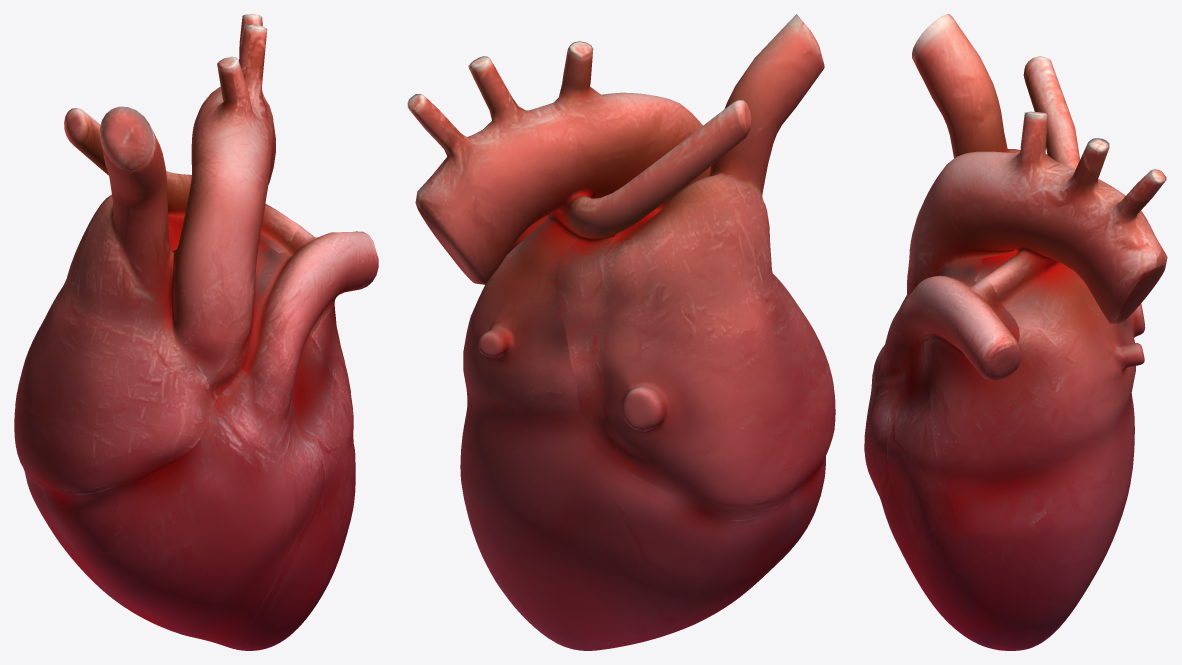
The model's file is HeartMesh.fbx.
The picture shows the model from 3 angles, left to right: view 1: azimuth 30°, elevation 25°; view 2: azimuth 150°, elevation 25°; view 3: azimuth 270°, elevation 25°; orthographic projection. The views are drawn at different scales.
Visible parts, largest first — view 1: ZBrush_defualt_grohhup1; view 2: ZBrush_defualt_grohhup1; view 3: ZBrush_defualt_grohhup1.
Boxes of the visible parts, box(x1,y1,x2,y2) form: ZBrush_defualt_grohhup1: box(14, 14, 378, 650); ZBrush_defualt_grohhup1: box(407, 14, 835, 650); ZBrush_defualt_grohhup1: box(864, 14, 1167, 650).
Size of the model in its own units: 603 by 1069 by 526.
Materials: 1 (1 with a texture image).
